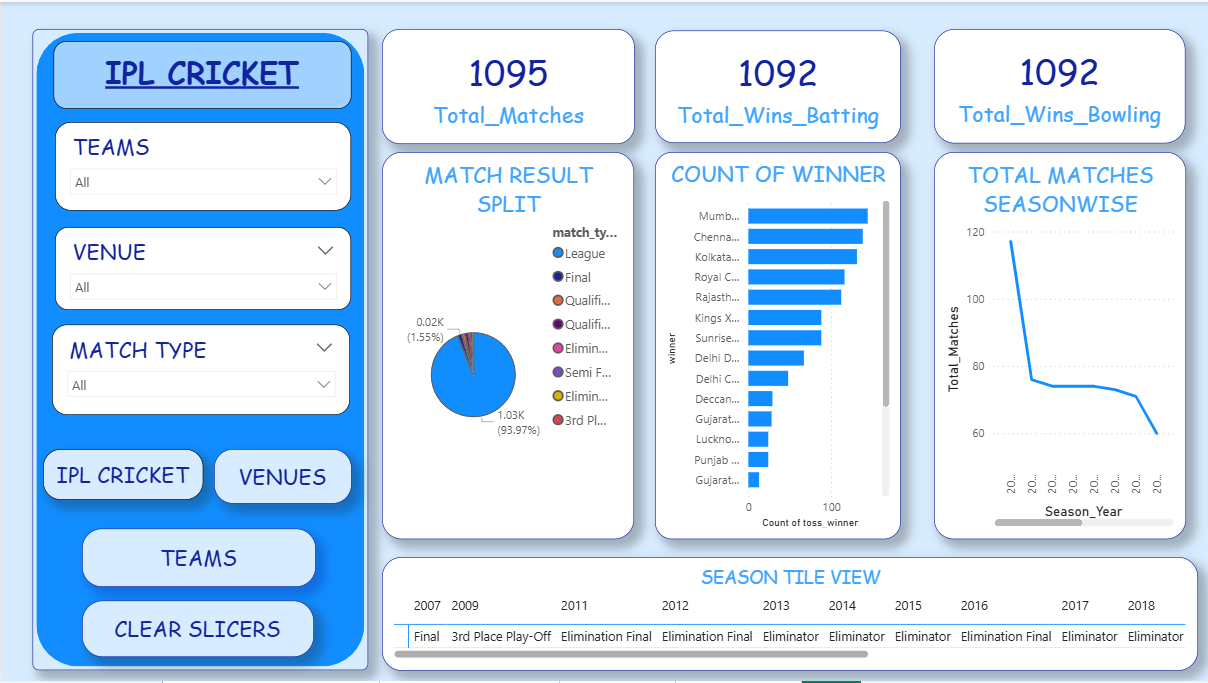

What the dashboard file says about the page in this screenshot:
{"tool":"powerbi","page":{"name":"IPL OVERVIEW","canvas":[1280,720],"ordinal":1},"visuals":[{"type":"shape","box":[34,28,356,680],"z":0},{"type":"textbox","box":[56,42,316,72],"z":1000},{"type":"slicer","fields":{"Values":["matches.team1"]},"box":[58,128,314,94],"z":2000},{"type":"slicer","fields":{"Values":["matches.venue"]},"box":[58,238,314,88],"z":3000},{"type":"slicer","fields":{"Values":["matches.match_type"]},"box":[54,342,316,96],"z":4000},{"type":"card","fields":{"Values":["matches.Total_Matches"]},"box":[404,28,268,122],"z":5000},{"type":"card","fields":{"Values":["matches.Total_Wins_Batting"]},"box":[693.1,29.9,260.9,119.5],"z":6000},{"type":"card","fields":{"Values":["matches.Total_Wins_Bowling"]},"box":[989.9,27.9,266.9,121.5],"z":7000},{"type":"pieChart","title":"MATCH RESULT SPLIT","fields":{"Category":["matches.match_type"],"Y":["CountNonNull(matches.match_type)"]},"box":[404,159.1,267.2,410.4],"z":8000},{"type":"clusteredBarChart","title":"COUNT OF WINNER","fields":{"Category":["matches.winner"],"Y":["CountNonNull(matches.toss_winner)"]},"box":[693.5,159.1,260.9,410.4],"z":9000},{"type":"lineChart","title":"TOTAL MATCHES SEASONWISE","fields":{"Category":["matches.Season_Year"],"Y":["matches.Total_Matches"]},"box":[989.4,159.1,267.2,410.4],"z":10000},{"type":"pivotTable","title":"SEASON TILE VIEW","fields":{"Values":["Min(matches.match_type)"],"Columns":["matches.Season_Year"]},"box":[404,588.5,865.3,120.9],"z":11000},{"type":"actionButton","title":"IPL OVERVIEW","box":[44,474,170,54],"z":12000},{"type":"actionButton","box":[226,474,146,58],"z":13000},{"type":"actionButton","box":[86,558,248,62],"z":14000},{"type":"actionButton","box":[86,634,246,60],"z":15000}]}

Visuals, with their boxes in screenshot pixels (x1, y1, x2, y2), scaled from the page's 1280x720 canvas onto the 1208x683 screenshot:
shape: {"left": 32, "top": 27, "right": 368, "bottom": 672}
textbox: {"left": 53, "top": 40, "right": 351, "bottom": 108}
slicer - matches.team1: {"left": 55, "top": 121, "right": 351, "bottom": 211}
slicer - matches.venue: {"left": 55, "top": 226, "right": 351, "bottom": 309}
slicer - matches.match_type: {"left": 51, "top": 324, "right": 349, "bottom": 415}
card - matches.Total_Matches: {"left": 381, "top": 27, "right": 634, "bottom": 142}
card - matches.Total_Wins_Batting: {"left": 654, "top": 28, "right": 900, "bottom": 142}
card - matches.Total_Wins_Bowling: {"left": 934, "top": 26, "right": 1186, "bottom": 142}
"MATCH RESULT SPLIT" pieChart: {"left": 381, "top": 151, "right": 633, "bottom": 540}
"COUNT OF WINNER" clusteredBarChart: {"left": 654, "top": 151, "right": 901, "bottom": 540}
"TOTAL MATCHES SEASONWISE" lineChart: {"left": 934, "top": 151, "right": 1186, "bottom": 540}
"SEASON TILE VIEW" pivotTable: {"left": 381, "top": 558, "right": 1198, "bottom": 673}
"IPL OVERVIEW" actionButton: {"left": 42, "top": 450, "right": 202, "bottom": 501}
actionButton: {"left": 213, "top": 450, "right": 351, "bottom": 505}
actionButton: {"left": 81, "top": 529, "right": 315, "bottom": 588}
actionButton: {"left": 81, "top": 601, "right": 313, "bottom": 658}
